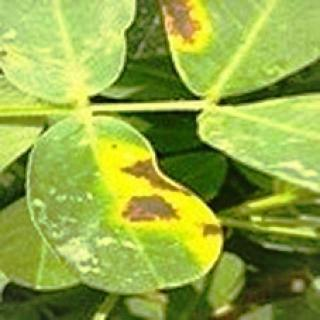leaf spot: (110, 147, 224, 265), (158, 4, 218, 54)
